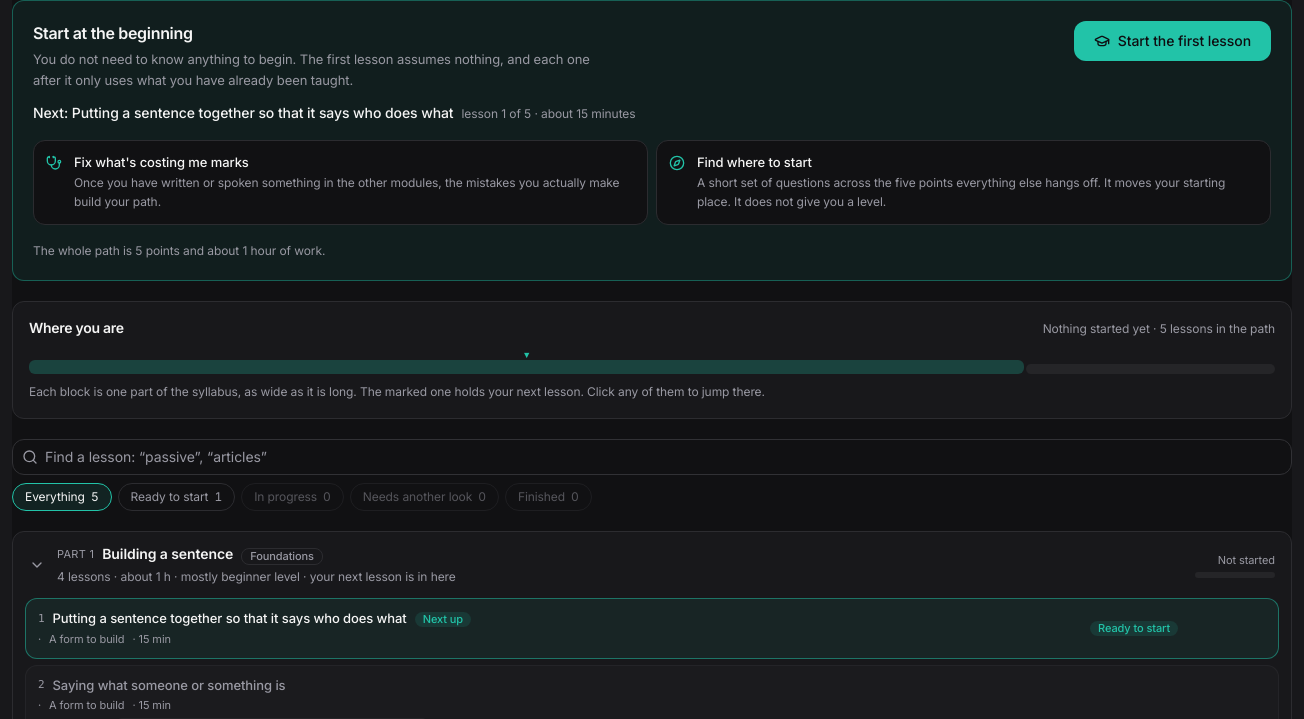
Scenario: narrowing the list › explains an empty result instead of showing nothing
Type "zzzz" into the field labelled "Find a lesson".
click(652, 457); type("zzzz")  # box [12,439,1292,475]
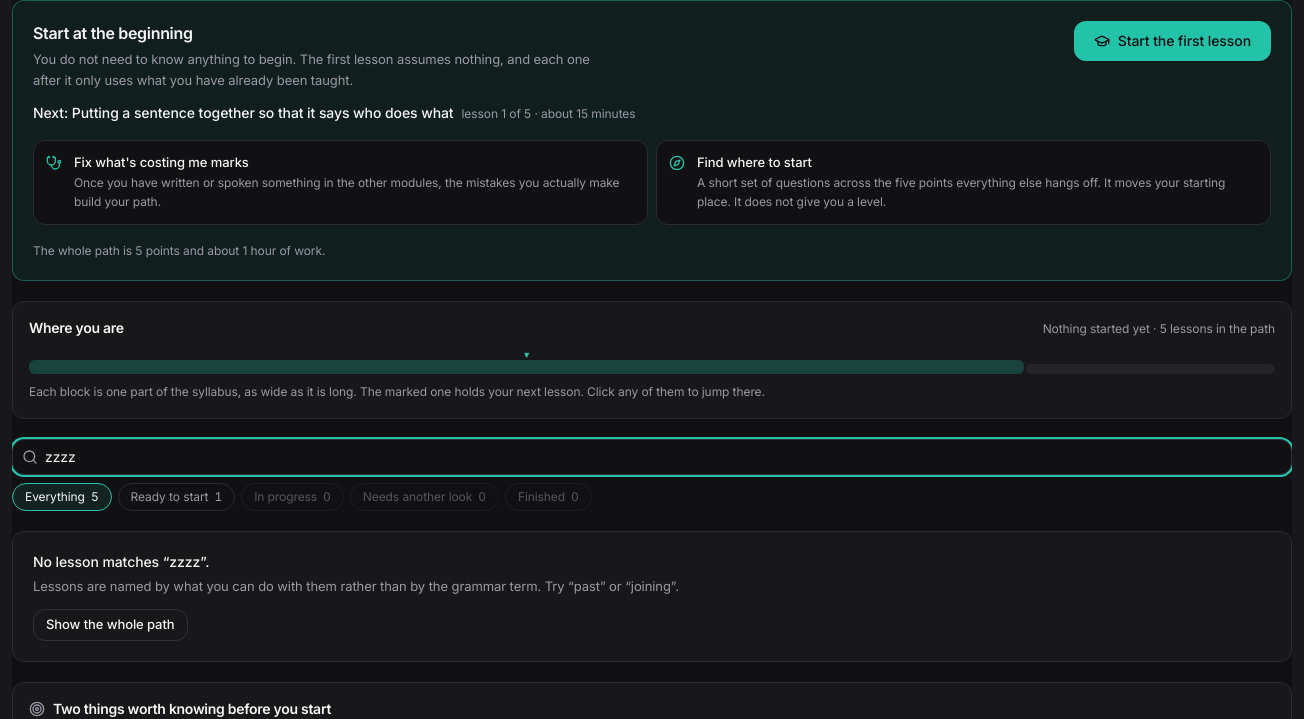
Check: the text "No lesson matches “zzzz”." is shown, box [33,553,209,570]
Check: the button "Show the whole path" is shown, box [33,609,188,641]
